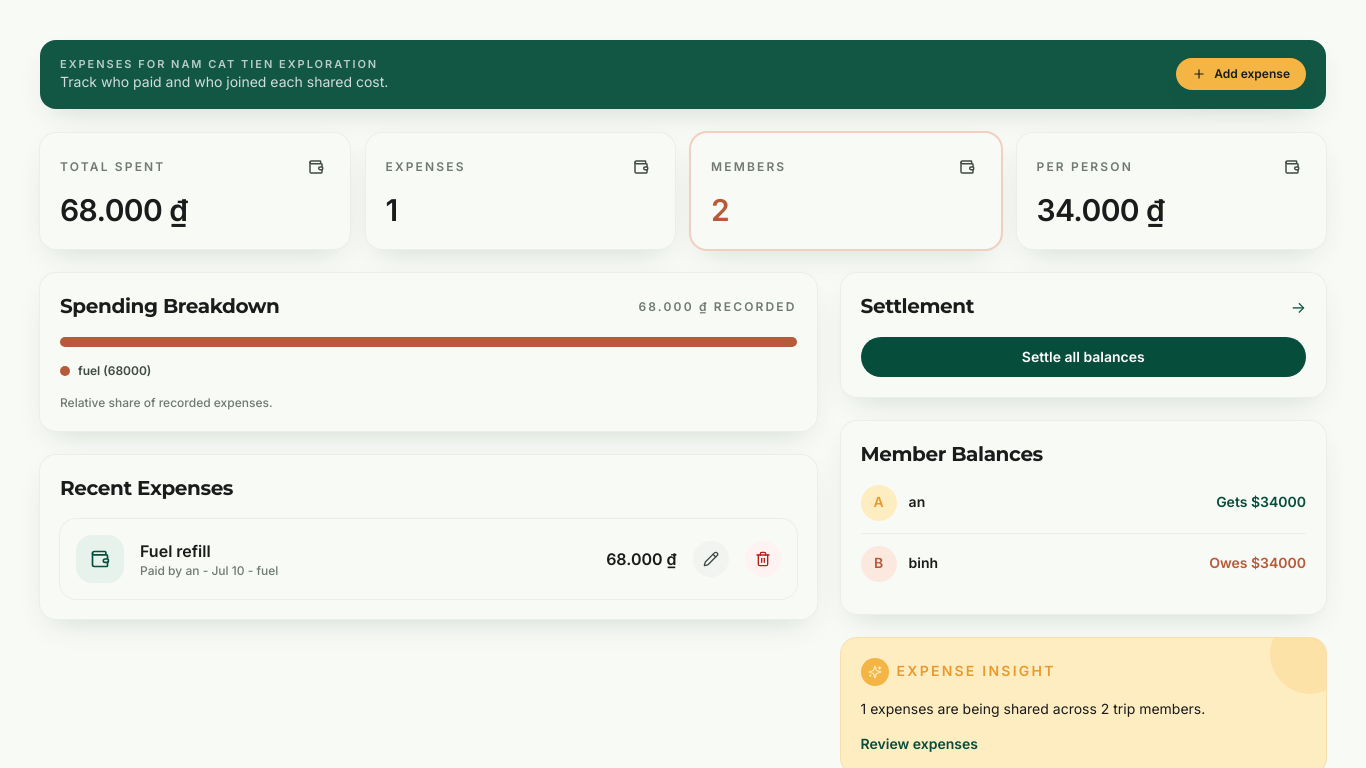
ExpensesSurface › shows the settle confirmation when Settle all balances is clicked
Click the button with test id "expenses-settle-all": (1083, 356) [861,336,1306,376]
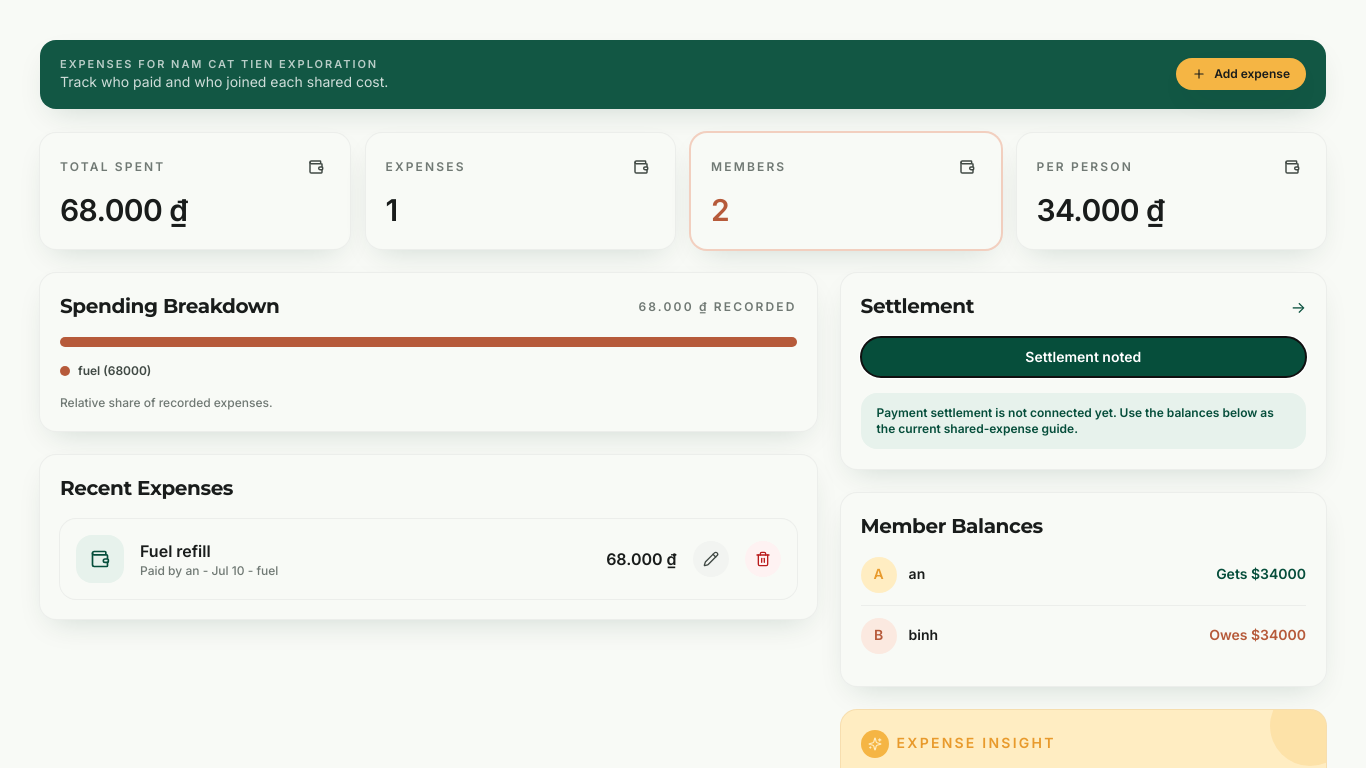
expect the text with test id "expenses-settle-confirmation" is shown: met, box [861,392,1306,448]
